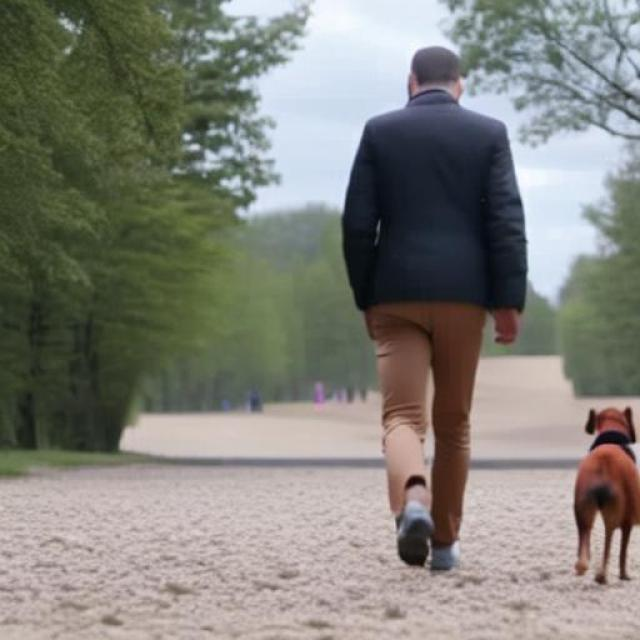Unleashed_Dog: (385, 269, 640, 585)
